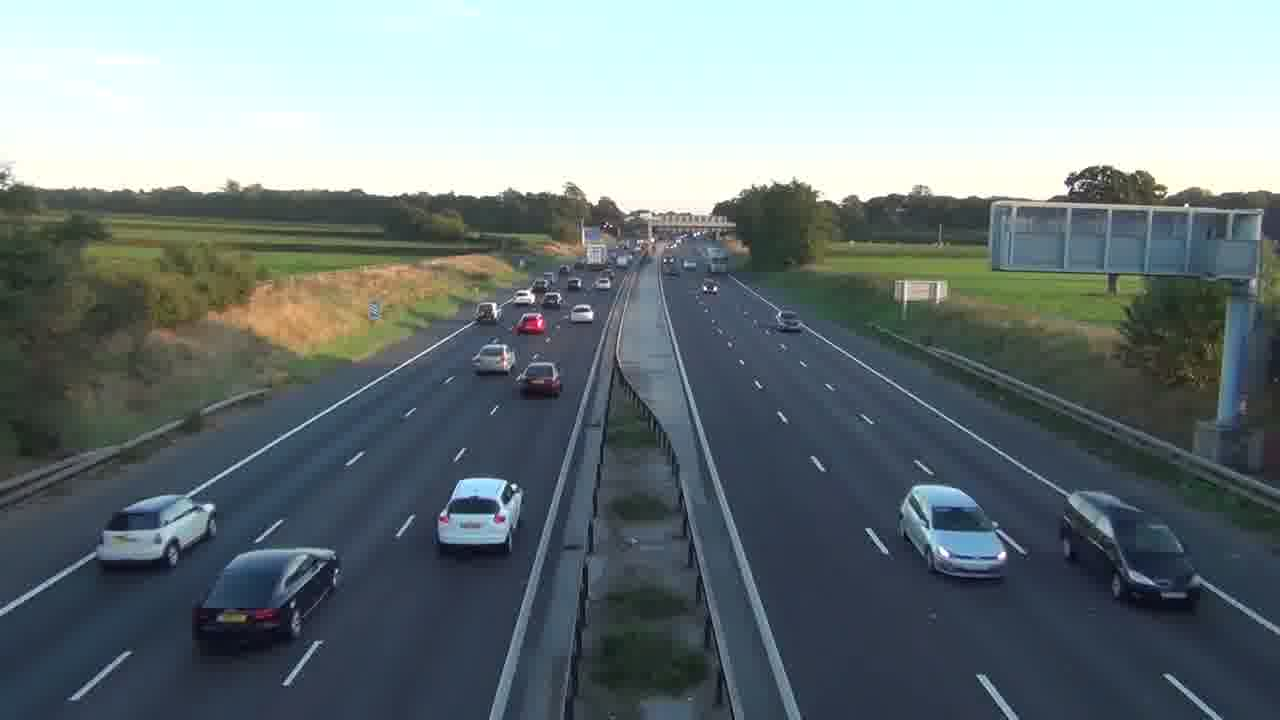car: (897, 482, 1008, 580), (96, 492, 218, 570), (435, 476, 526, 554), (515, 360, 562, 398), (472, 341, 517, 375), (569, 304, 595, 324), (701, 276, 720, 294), (542, 292, 562, 309)
truck: (1057, 489, 1201, 605), (191, 545, 340, 645)
